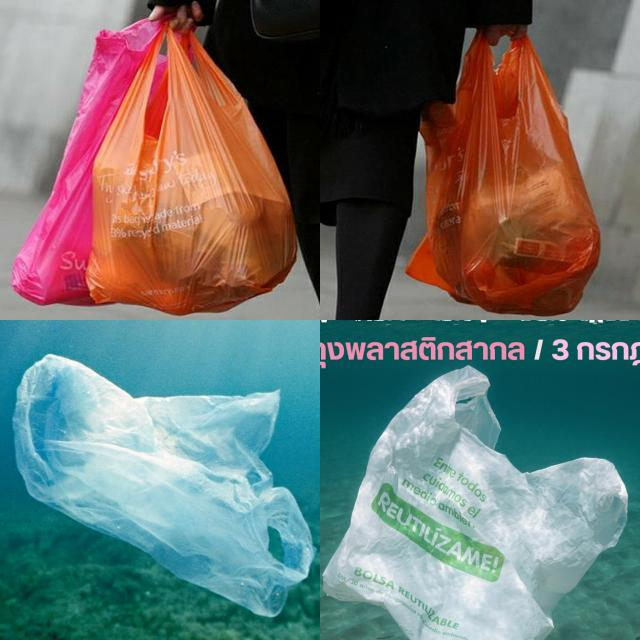Single-layer Plastic: (324, 366, 628, 640), (14, 355, 315, 616), (86, 26, 296, 314), (408, 34, 600, 314), (11, 19, 162, 305)
